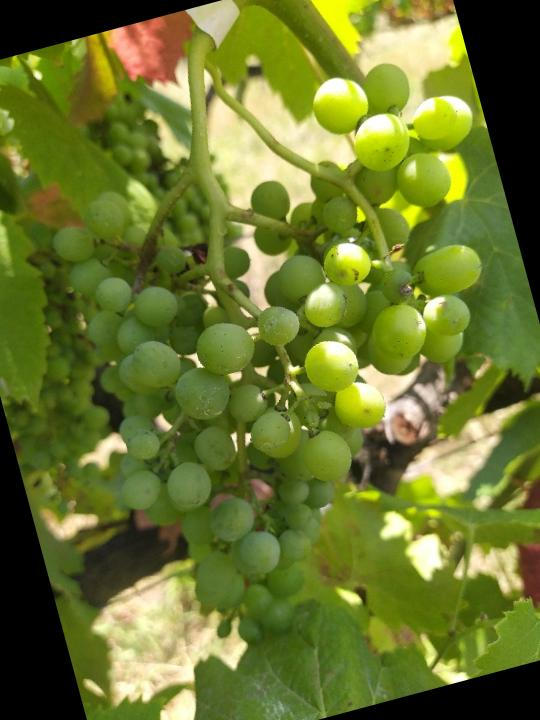grape: (23, 39, 540, 673)
